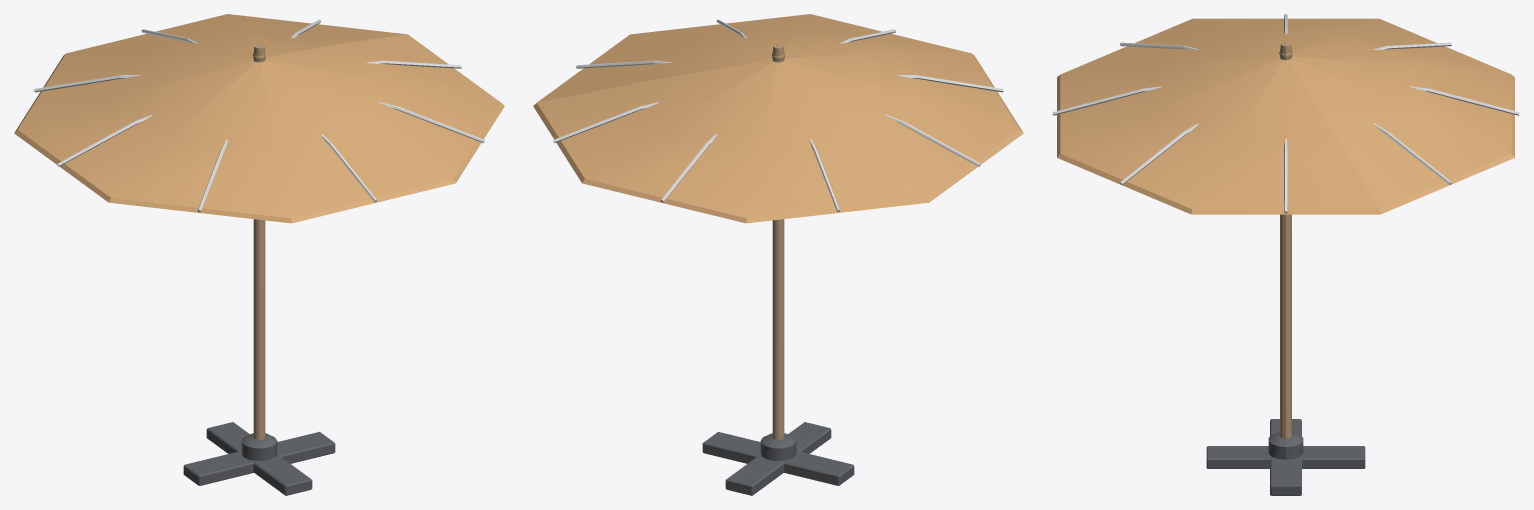
The model's file is bakery-and-cafe-parasol-0ef33440__22222.glb.
3 renders of one model, left to right at view 1: azimuth 30°, elevation 25°; view 2: azimuth 150°, elevation 25°; view 3: azimuth 270°, elevation 25°, orthographic.
Parts seen in each view (by area): view 1: parasol; view 2: parasol; view 3: parasol.
Part boxes in pixels (bbox=[...]): parasol: bbox=[14, 14, 504, 495]; parasol: bbox=[533, 14, 1023, 495]; parasol: bbox=[1052, 14, 1519, 495].
Bounding box in the file's own units: 2.35 × 2.34 × 2.35.
